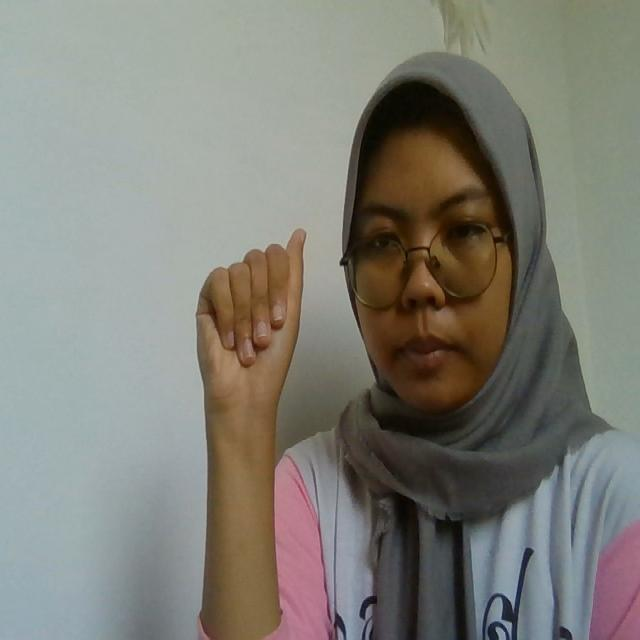A: (196, 229, 308, 400)
